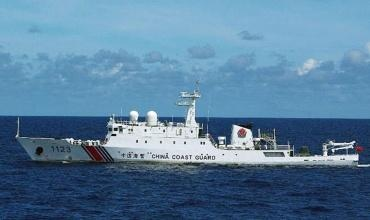warship: (16, 94, 365, 165)
